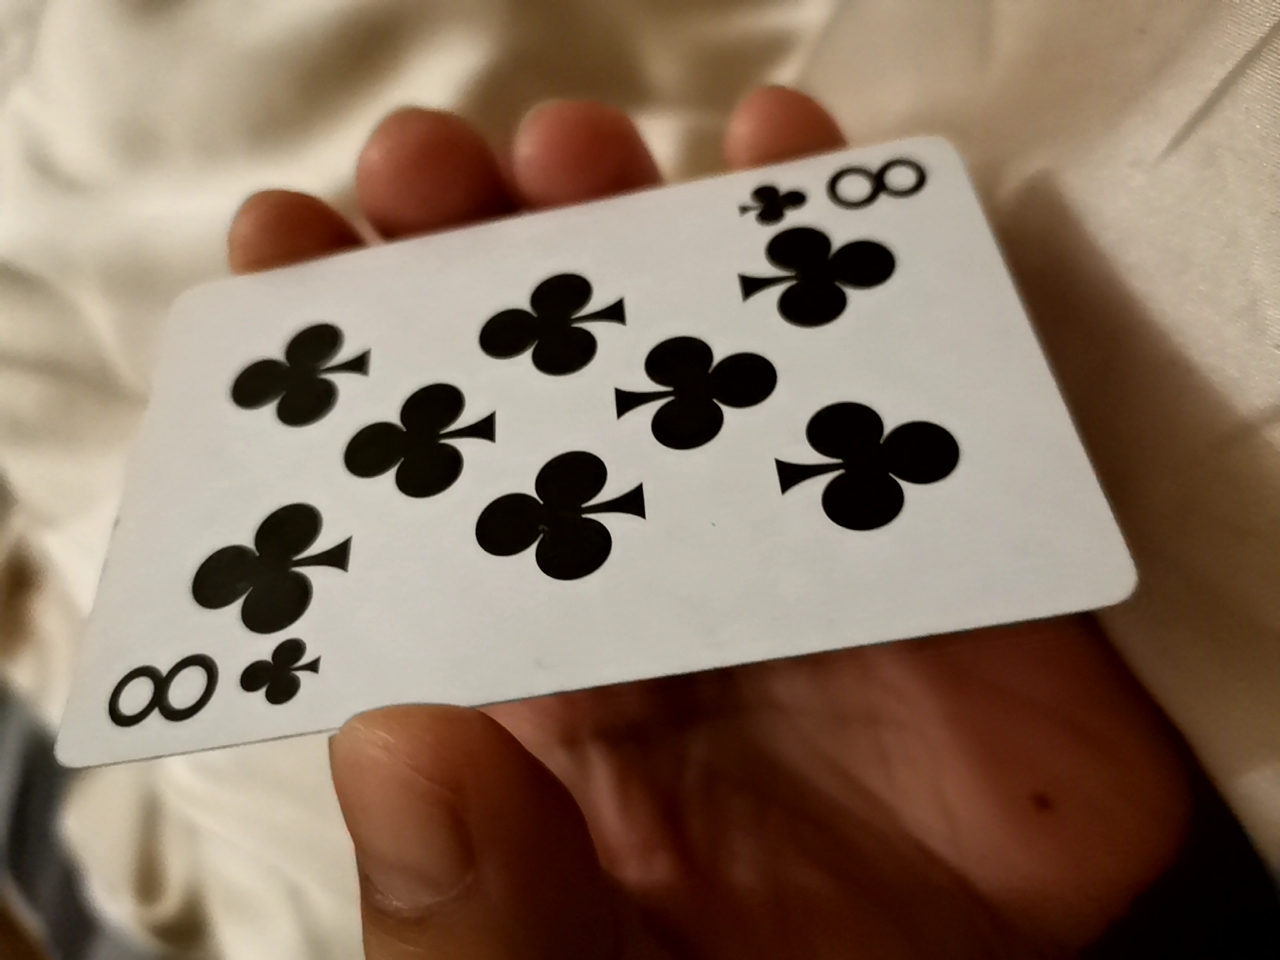mh 8: (61, 134, 1139, 770)
